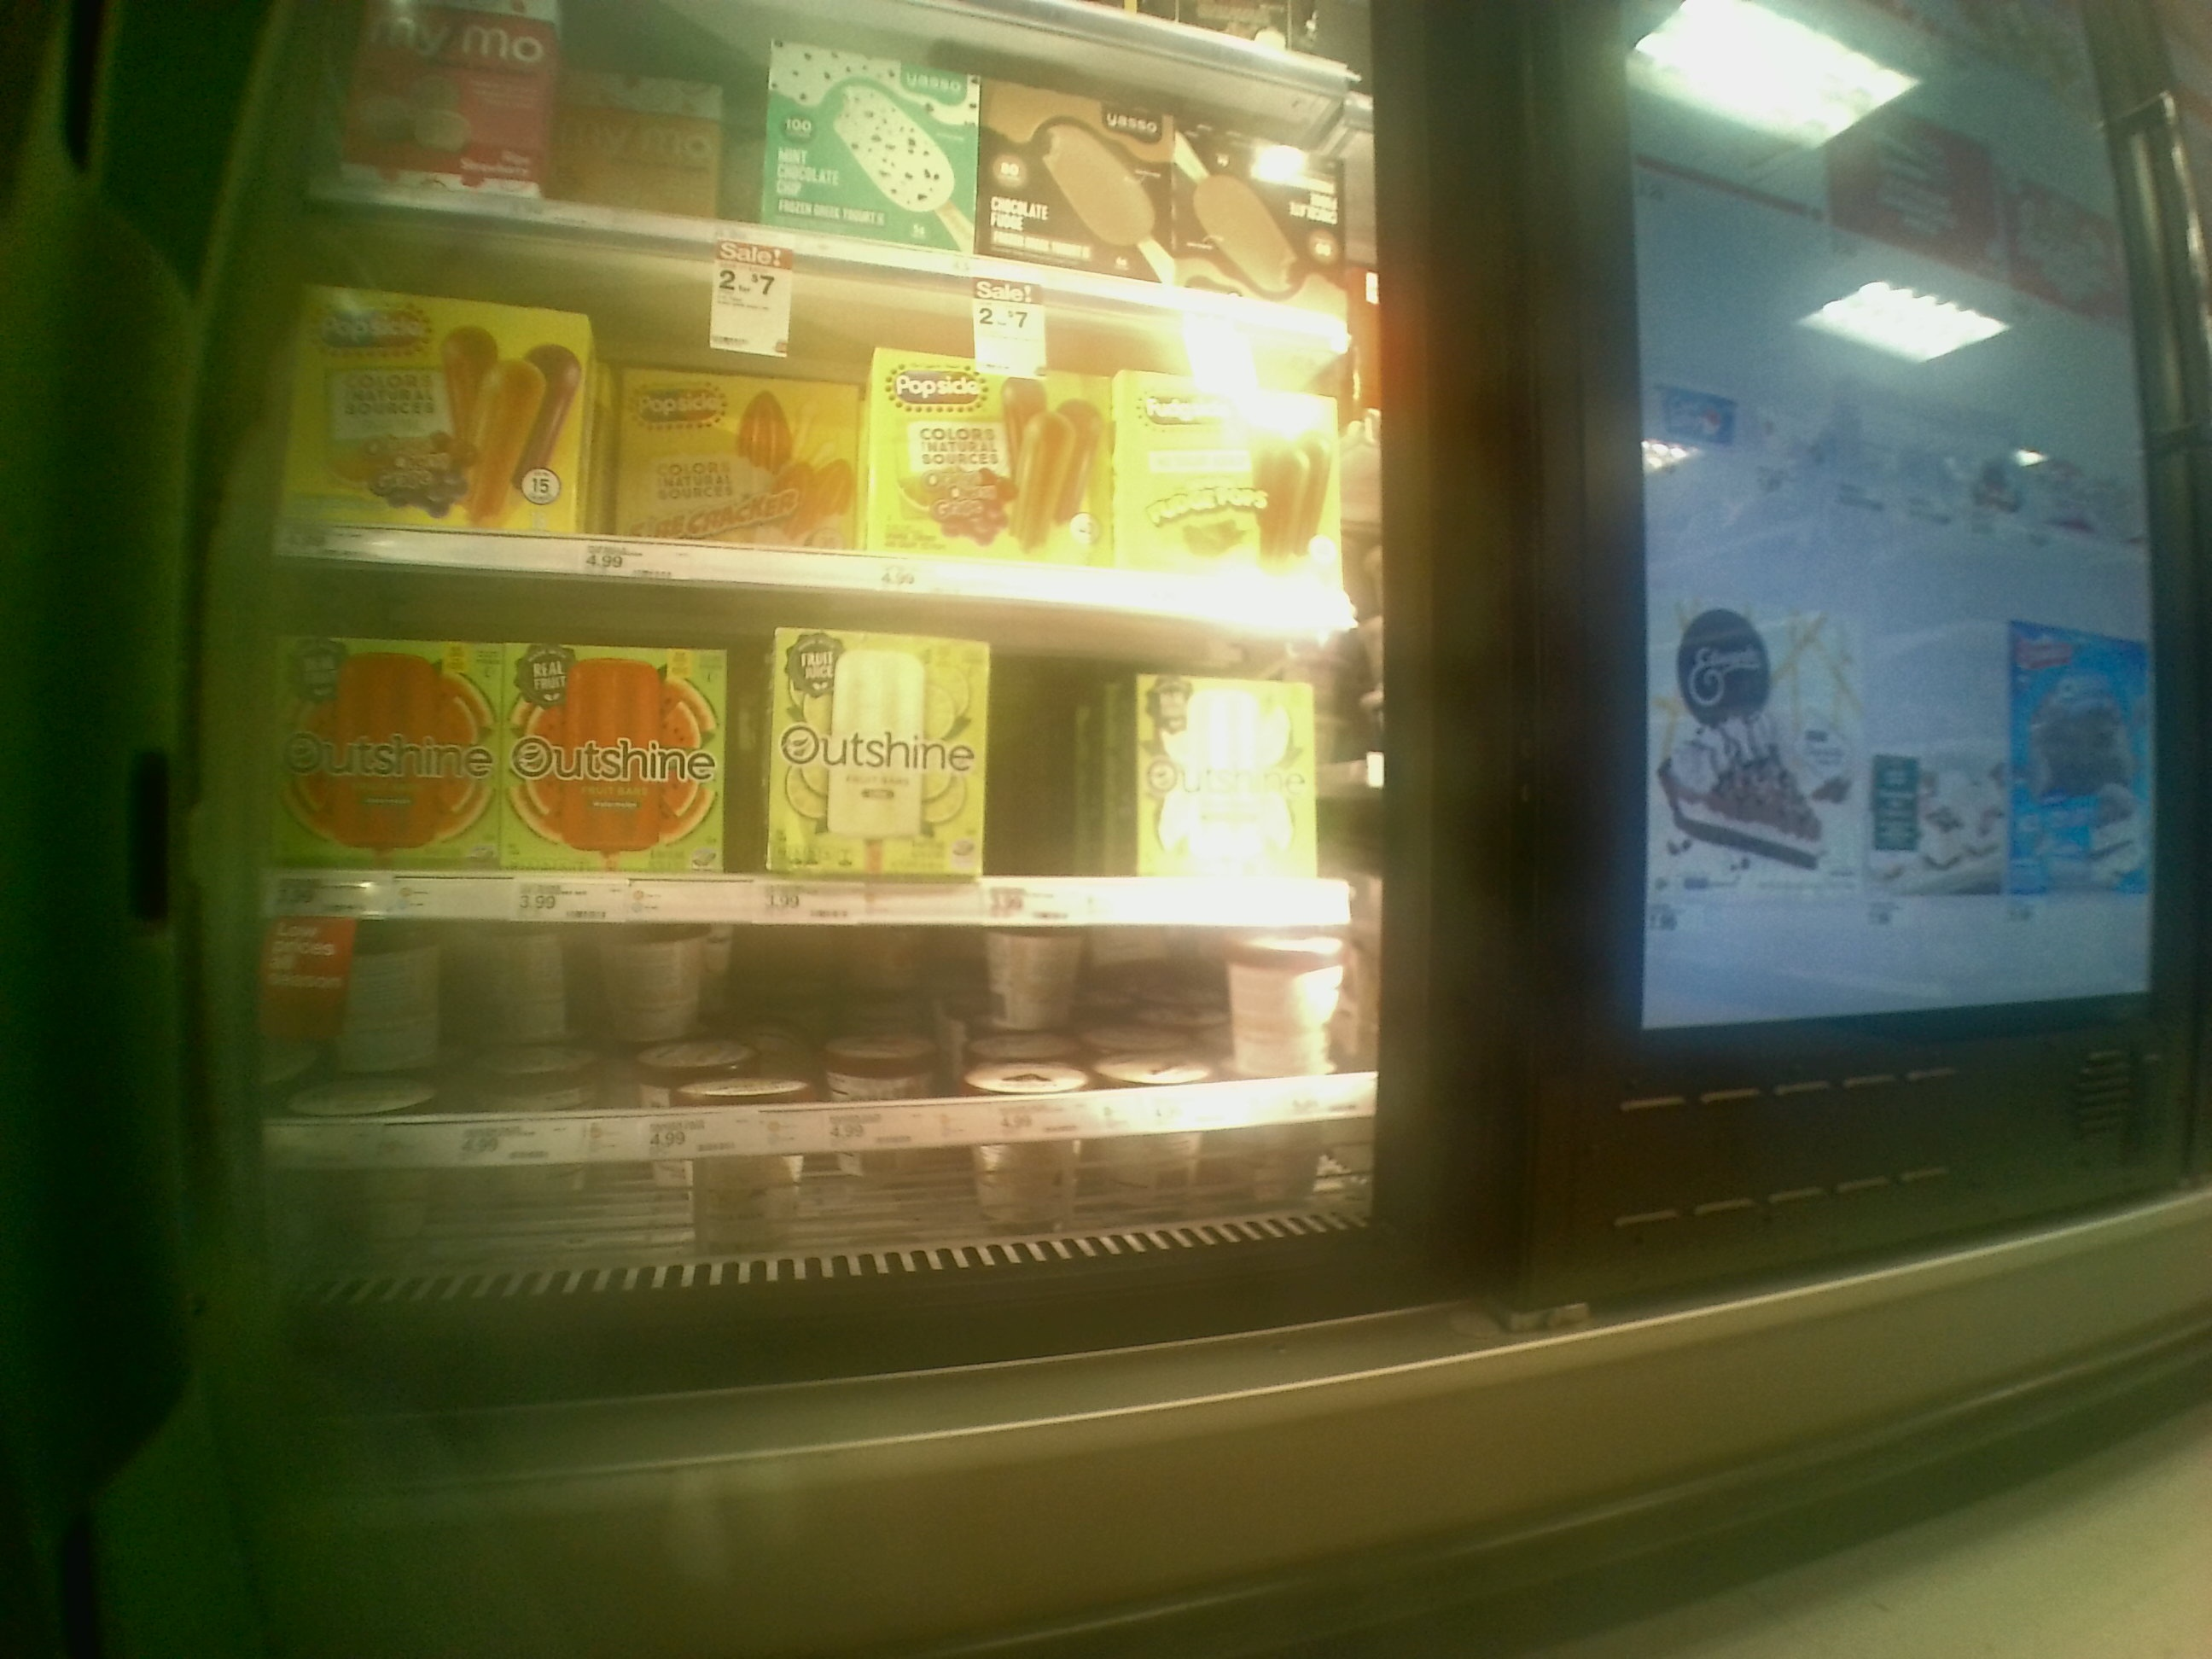shelf: (284, 190, 1350, 633), (270, 566, 1348, 927), (265, 927, 1383, 1188)
